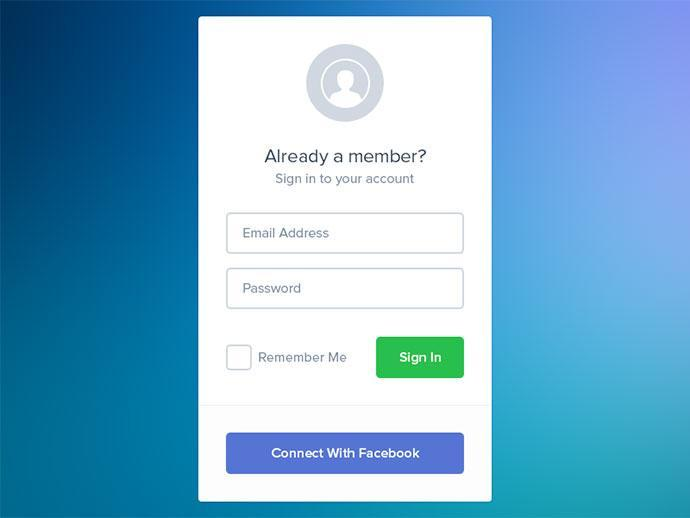button: (225, 432, 466, 476), (376, 337, 466, 381)
checkbox: (227, 346, 253, 370)
input: (228, 213, 464, 254), (228, 269, 465, 309)
label: (256, 348, 349, 366)
